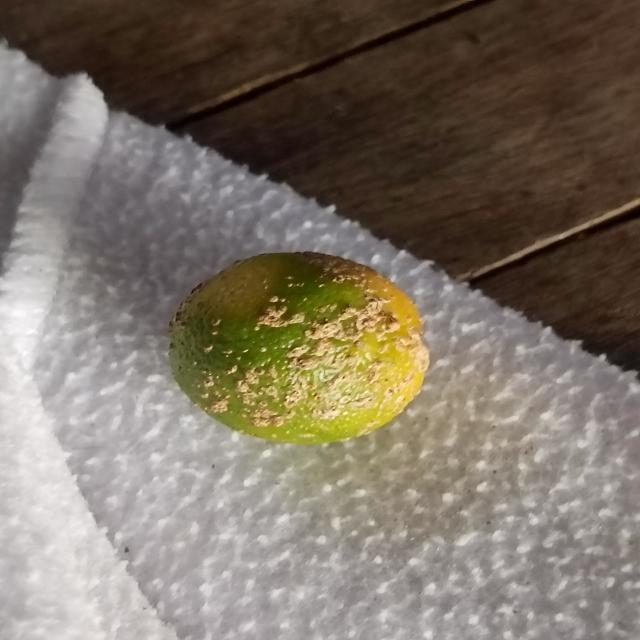scab: (169, 255, 429, 447)
